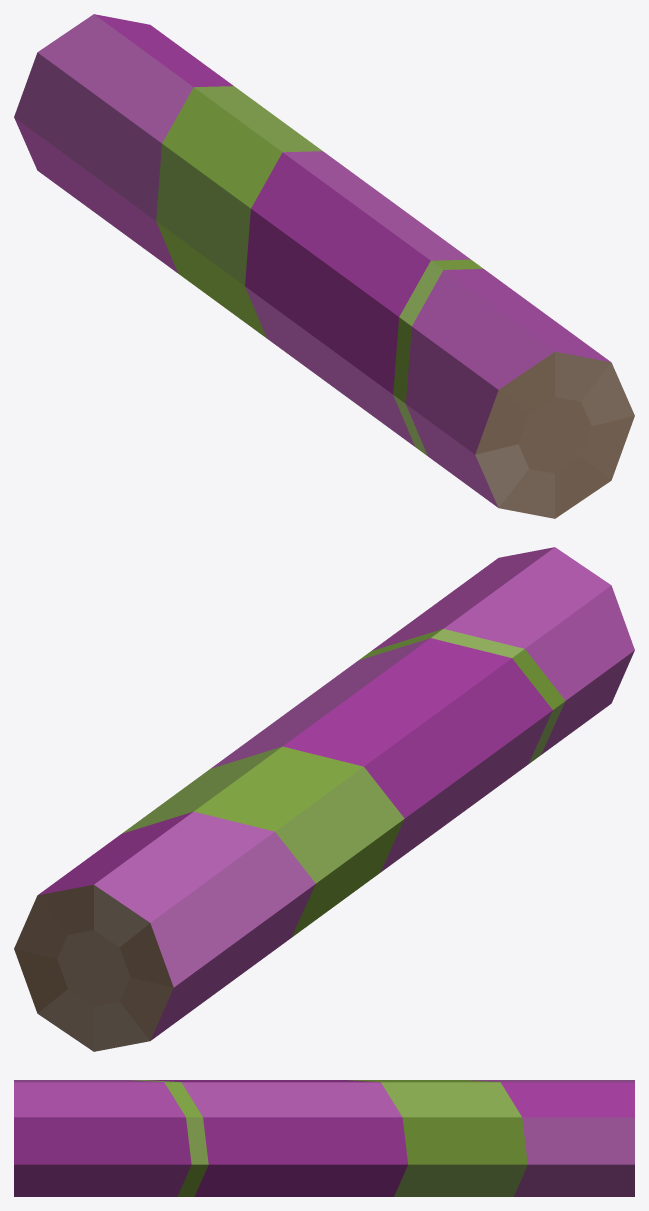
File: Prop_TextileC.fbx
3 views of the same model, one above another, from view 1: azimuth 30°, elevation 25°; view 2: azimuth 150°, elevation 25°; view 3: azimuth 270°, elevation 25° (orthographic). The views are drawn at different scales.
Visible parts, largest first — view 1: Prop_TextileC; view 2: Prop_TextileC; view 3: Prop_TextileC.
Part boxes in pixels (left/top/right/bottom): Prop_TextileC: left=14, top=14, right=634, bottom=518; Prop_TextileC: left=14, top=547, right=634, bottom=1051; Prop_TextileC: left=14, top=1080, right=634, bottom=1196.
Size of the model in its own units: 20 by 20 by 100.
